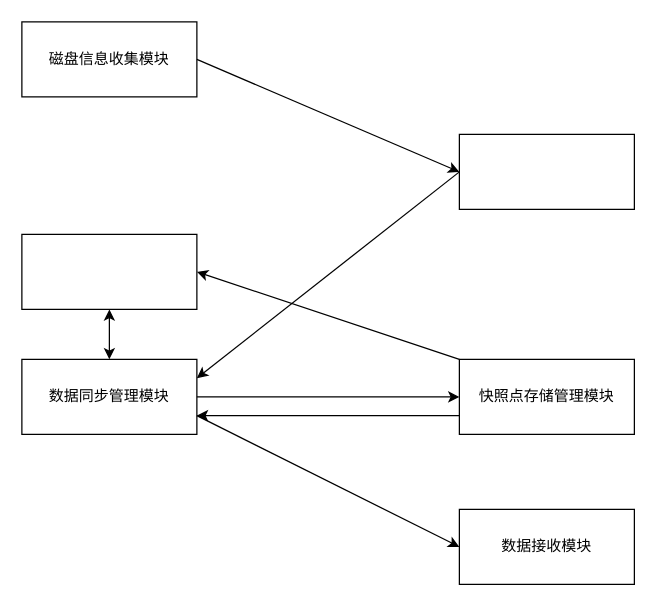
Image size: 656x606. Some labels were removed from this diagram. The centre of each missing label's shape, as x and y in pixels:
"哈希管理模块" belongs at point 109,271.
"备份模式判定模块" belongs at point 546,171.
